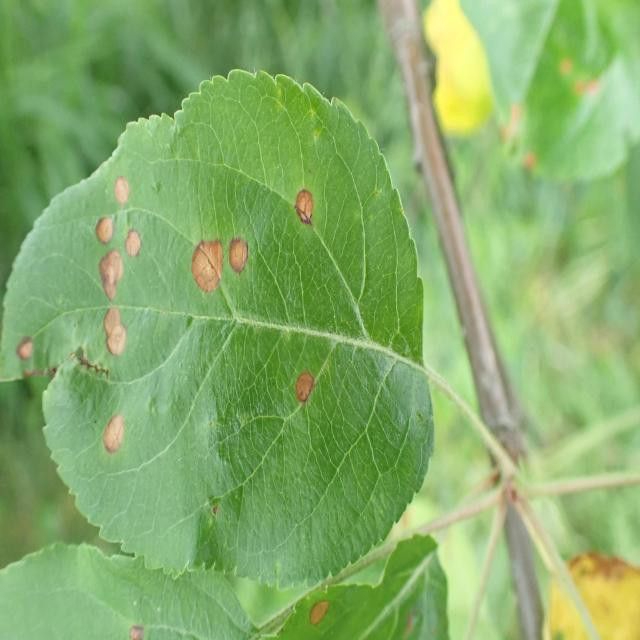Black Rot: (81, 298, 141, 362), (286, 157, 325, 250), (180, 232, 230, 302), (80, 247, 140, 300), (282, 356, 320, 432), (93, 392, 131, 463), (3, 318, 44, 374), (227, 226, 255, 298), (293, 588, 338, 631), (108, 160, 140, 216), (86, 202, 122, 250), (117, 604, 155, 640), (119, 214, 145, 262)
